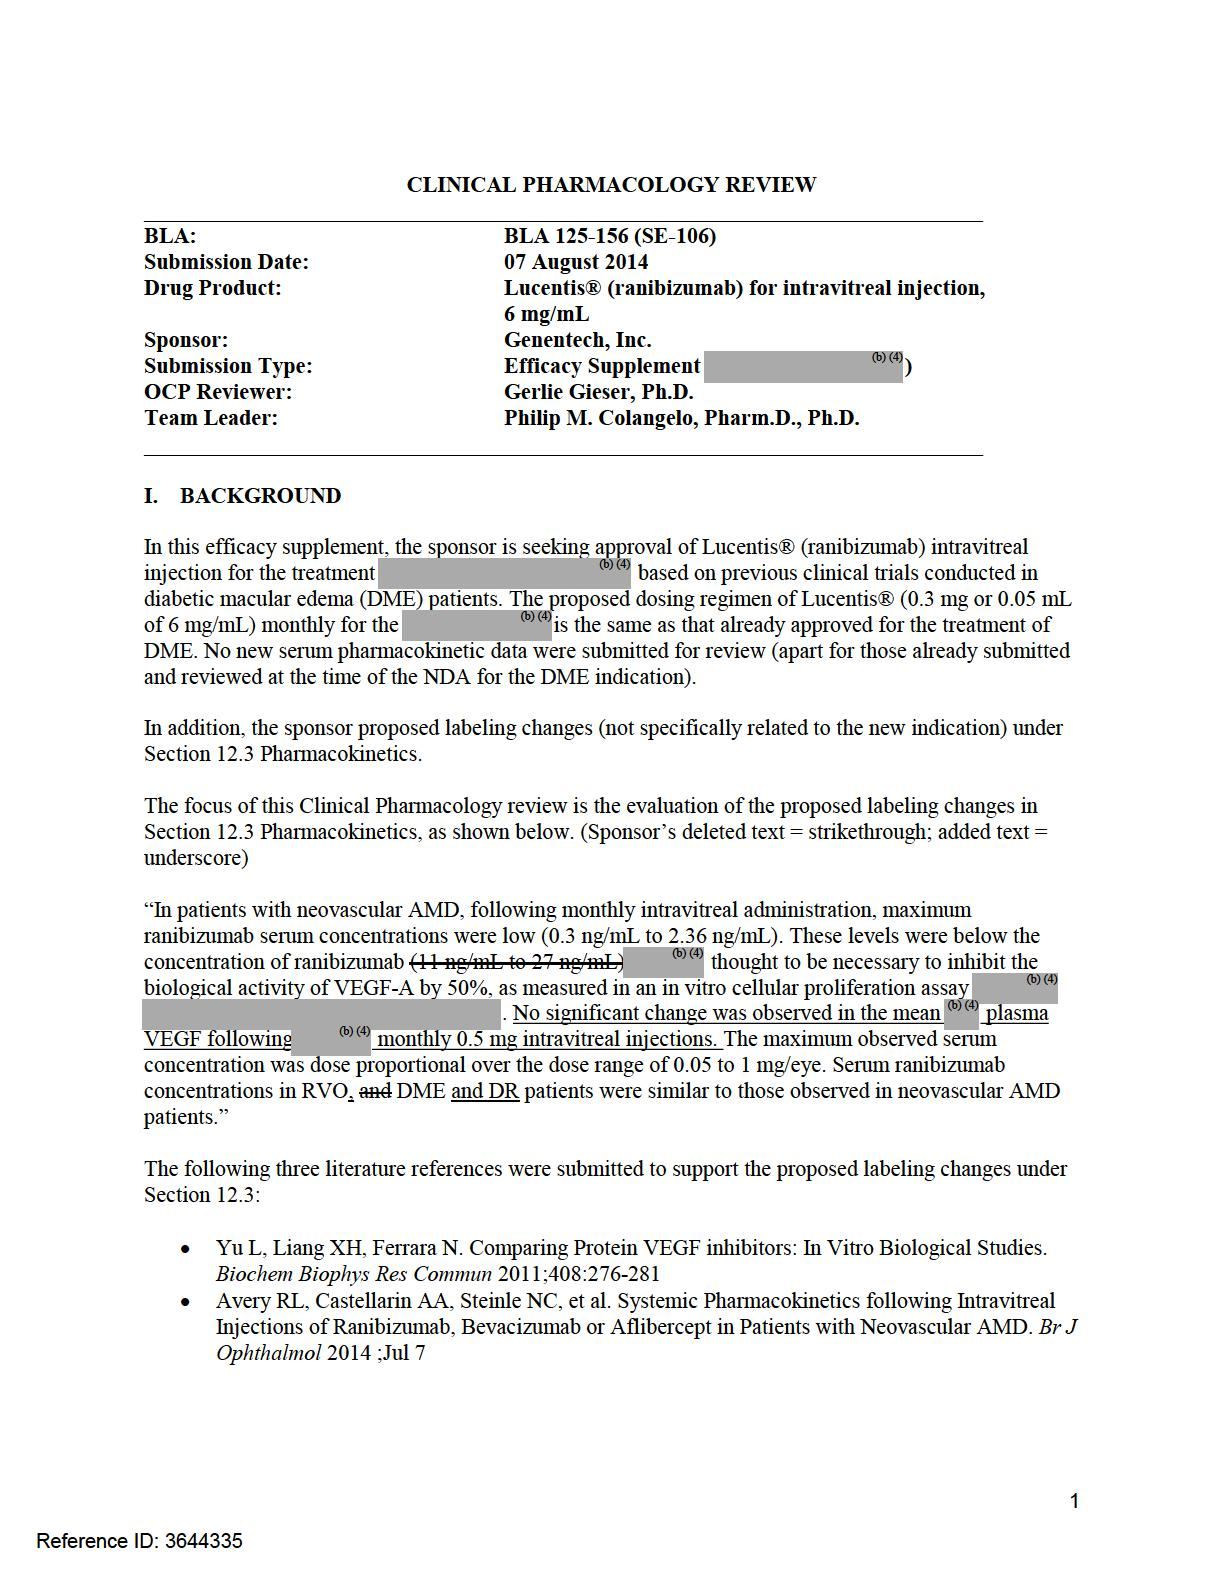partial_lined: (141, 219, 989, 455)
